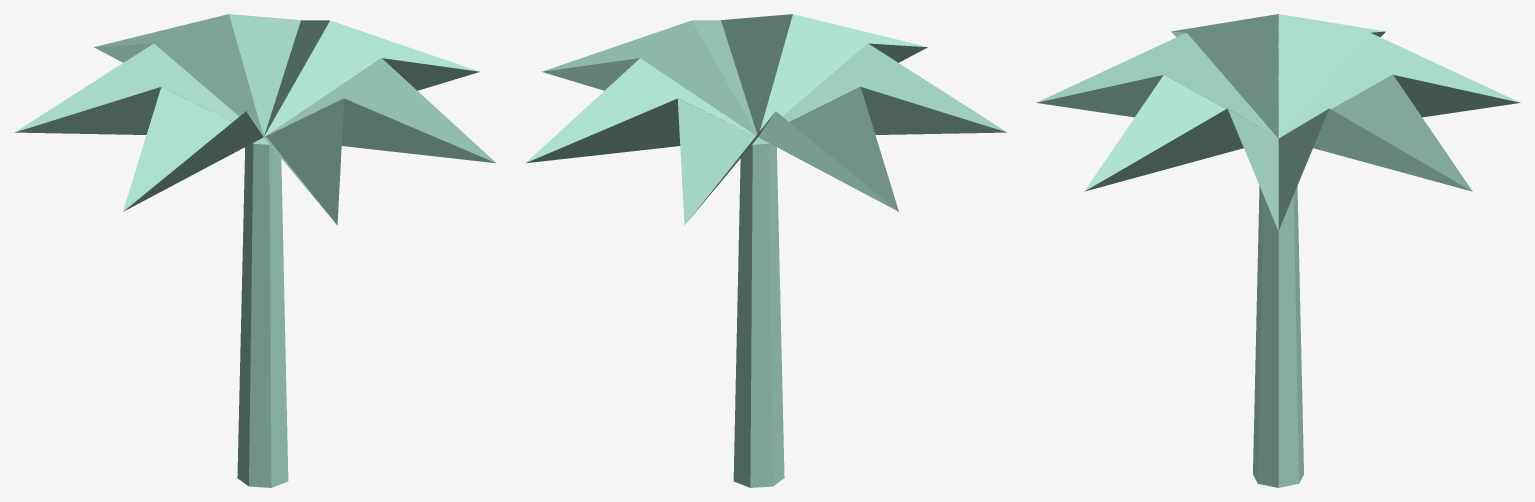
File: glorb-palm.glb
3 renders of one model, left to right at view 1: azimuth 30°, elevation 25°; view 2: azimuth 150°, elevation 25°; view 3: azimuth 270°, elevation 25°, orthographic.
Visible parts, largest first — view 1: Mesh; view 2: Mesh; view 3: Mesh.
Part boxes in pixels (box(x1,y1,x2,y2)): Mesh: box(15, 14, 495, 487); Mesh: box(526, 14, 1006, 487); Mesh: box(1036, 14, 1520, 487).
Bounding box in the file's own units: 3.42 × 3.3 × 3.51.
